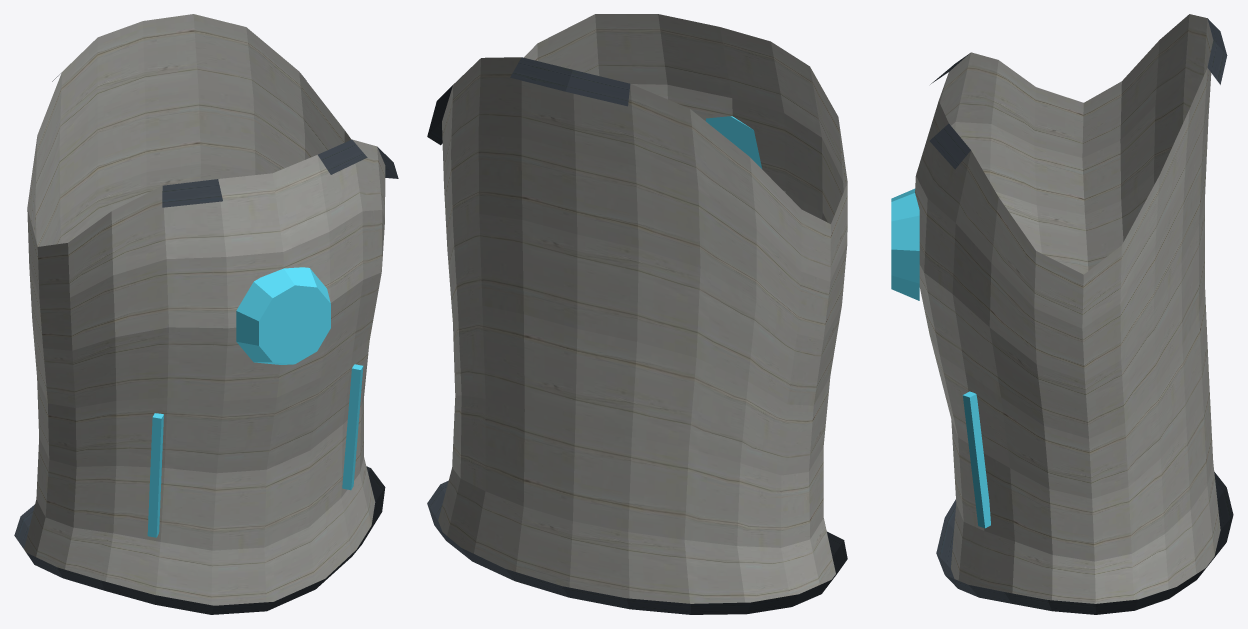
The model's file is eq_future_2_chest.glb.
3 views of the same model, side by side, from view 1: azimuth 30°, elevation 25°; view 2: azimuth 150°, elevation 25°; view 3: azimuth 270°, elevation 25° (orthographic). The views are drawn at different scales.
Parts seen in each view (by area): view 1: eq_future_2_chest; view 2: eq_future_2_chest; view 3: eq_future_2_chest.
Part boxes in pixels (bbox=[...]): eq_future_2_chest: bbox=[14, 14, 398, 614]; eq_future_2_chest: bbox=[427, 14, 847, 614]; eq_future_2_chest: bbox=[891, 14, 1233, 614].
Bounding box in the file's own units: 0.3724 × 0.4992 × 0.2927.
Materials: 3 (3 with a texture image).
